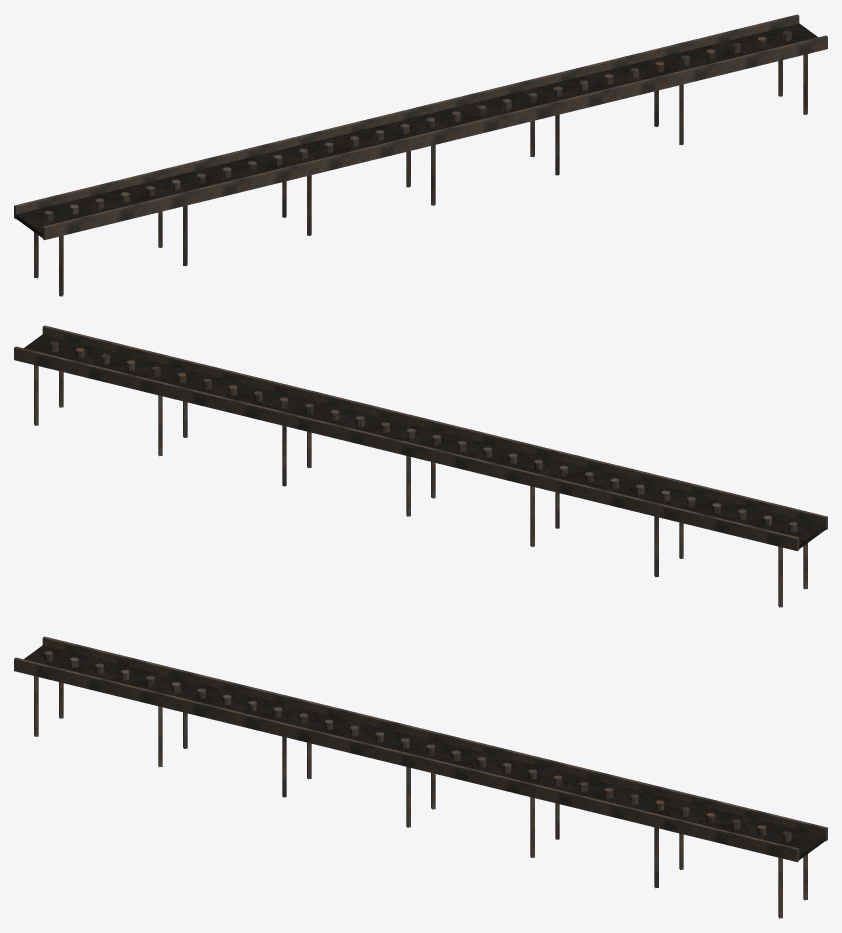
File: cinta.obj
The picture shows the model from 3 angles, top to bottom: view 1: azimuth 30°, elevation 25°; view 2: azimuth 150°, elevation 25°; view 3: azimuth 330°, elevation 25°; orthographic projection.
Visible parts, largest first — view 1: cinta; view 2: cinta; view 3: cinta.
Boxes of the visible parts, x1=… form: cinta: x1=14, y1=14, x2=827, y2=296; cinta: x1=14, y1=325, x2=827, y2=607; cinta: x1=14, y1=636, x2=827, y2=918.
Size of the model in its own units: 12 by 1.09 by 0.81.
Materials: 2 (2 with a texture image).
